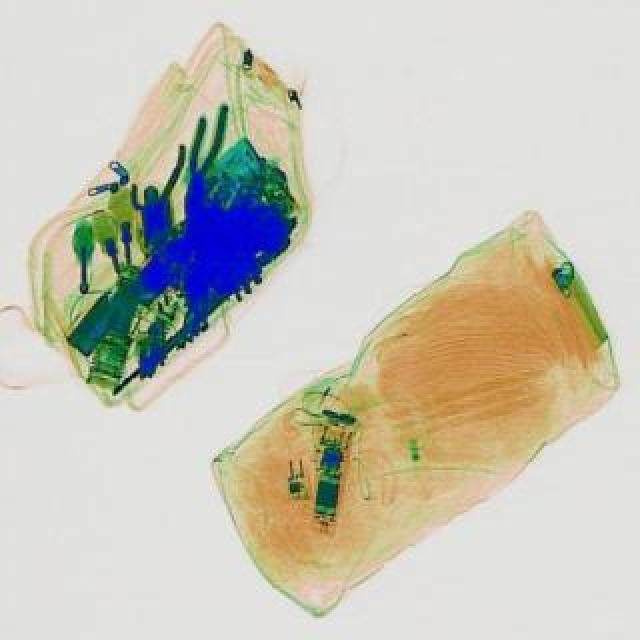wrench: (174, 98, 228, 214)
